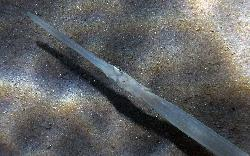Fistularia commersonii: (16, 5, 250, 156)
